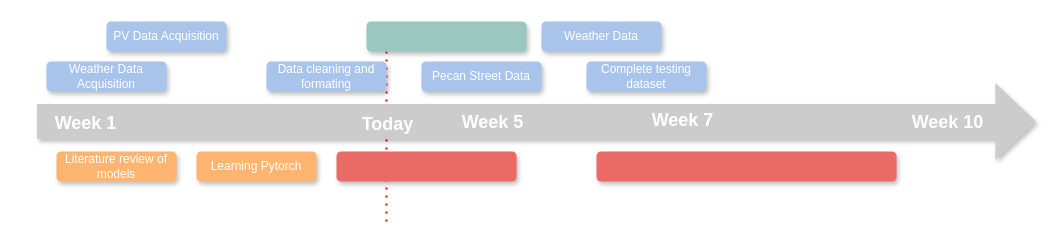
Image size: 1053x240. Some labels were removed from this diagram. Each missing label, with the centre of its shape:
"Integrate solar and last year's model" belongs at (x=747, y=167).
"Load Profile Generator" belongs at (x=447, y=37).
"Solar forecasting model" belongs at (x=427, y=167).
